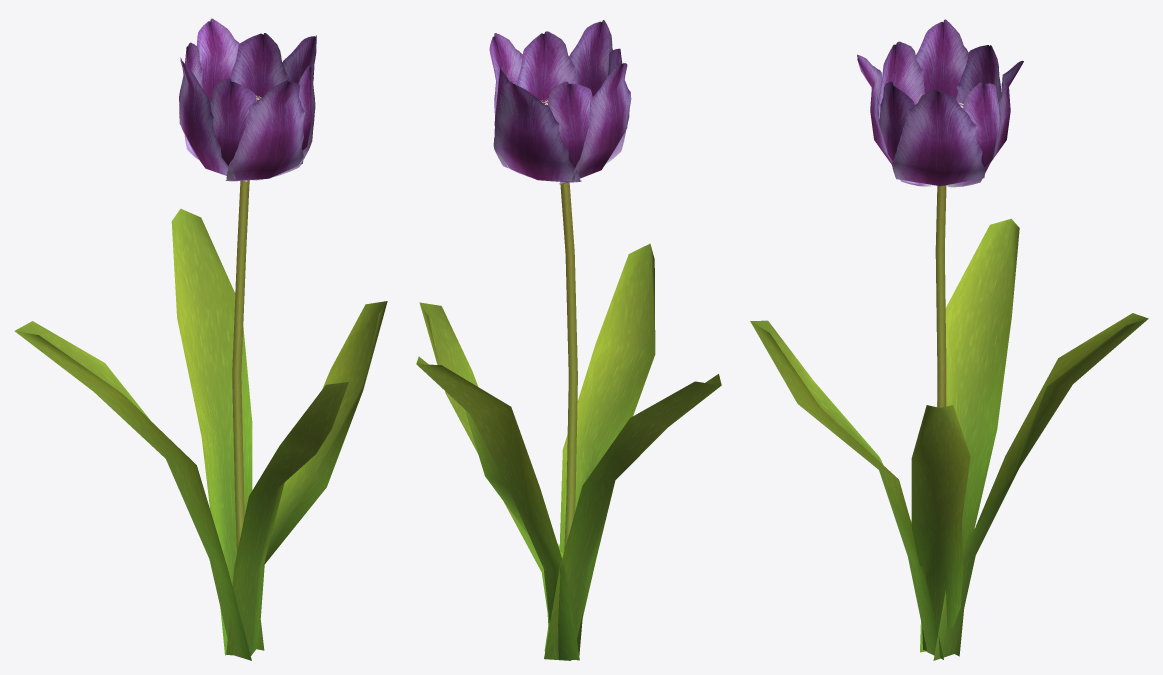
The model's file is m_flower14.fbx.
3 views of the same model, side by side, from view 1: azimuth 30°, elevation 25°; view 2: azimuth 150°, elevation 25°; view 3: azimuth 270°, elevation 25° (orthographic).
Visible parts, largest first — view 1: mesh_flower14; view 2: mesh_flower14; view 3: mesh_flower14.
Part boxes in pixels (x1,y1,x2,y2): mesh_flower14: [14, 18, 387, 660]; mesh_flower14: [416, 20, 721, 660]; mesh_flower14: [750, 19, 1148, 660].
Size of the model in its own units: 0.2418 by 0.4208 by 0.2491.
Materials: 1 (1 with a texture image).
